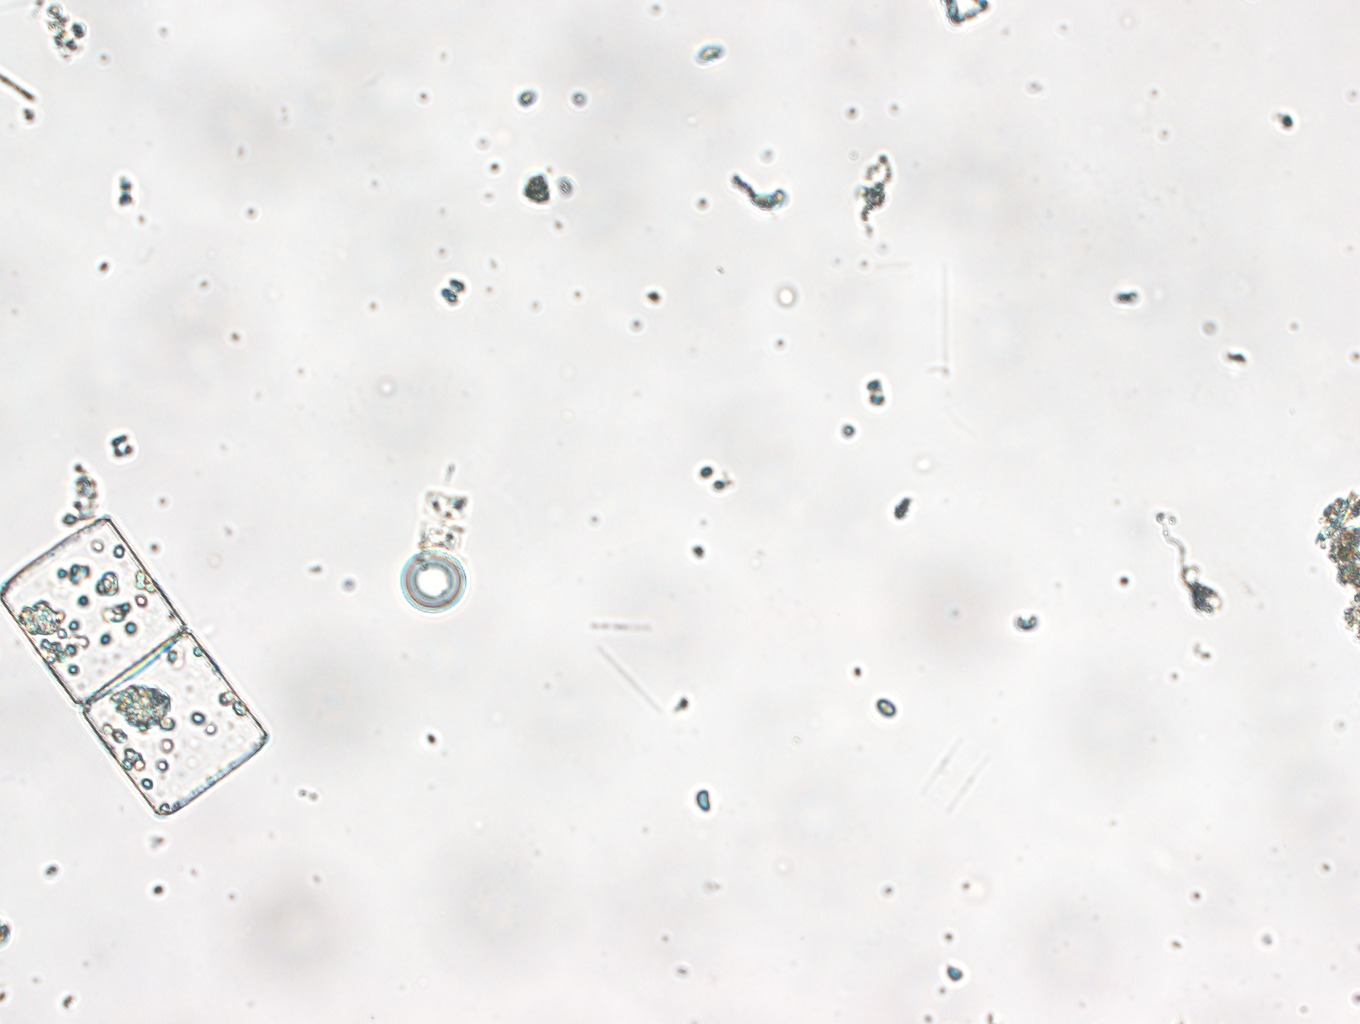guinardia flaccida: (1, 516, 267, 817)
